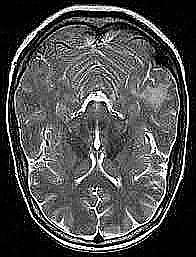Normal_Brain: (4, 3, 196, 257)
